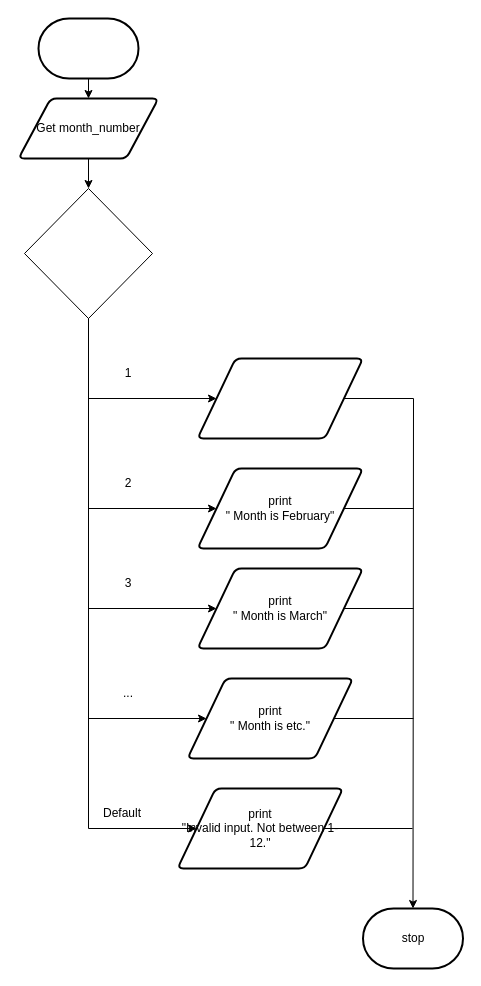
This 481x986 diagram has some shape labels left out. Here are the shapes that lost their labels. From the top down, the centre of each, then its label:
pixel 88 48: Start
pixel 88 253: Month number
pixel 280 398: print " Month is January"
